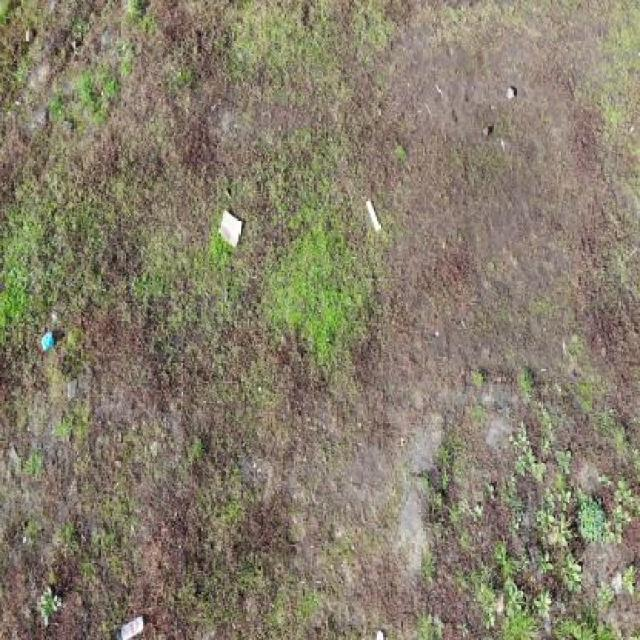Garbage: (218, 209, 243, 249), (110, 614, 145, 639), (365, 200, 382, 235), (40, 330, 55, 352), (375, 632, 384, 640)
